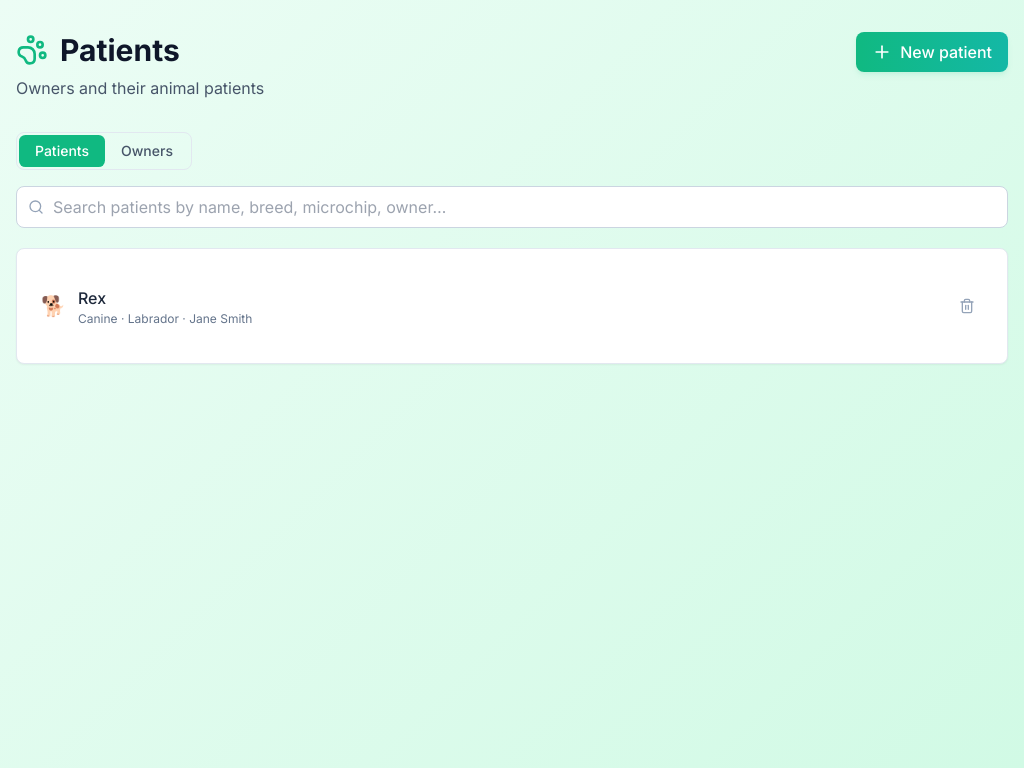
Test: PatientsPage › vaccinations tab shows empty state when no records
Click the text "Rex": x=92, y=298 [78, 288, 106, 308]
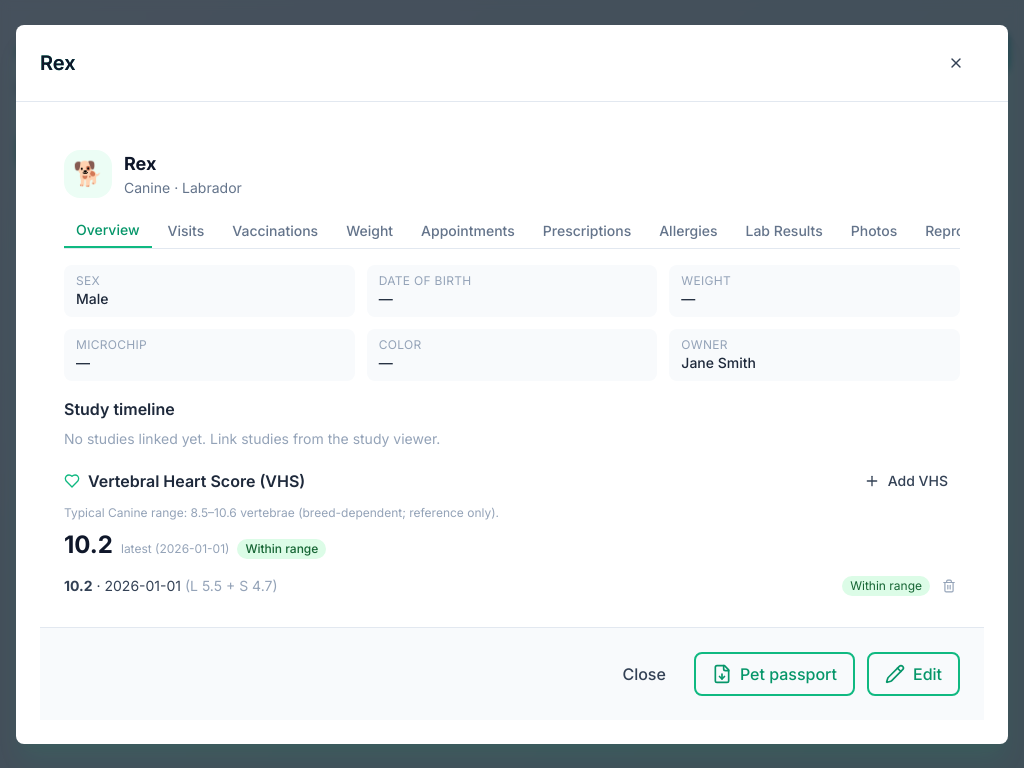
Click the button "Vaccinations": x=275, y=230 [220, 214, 330, 248]
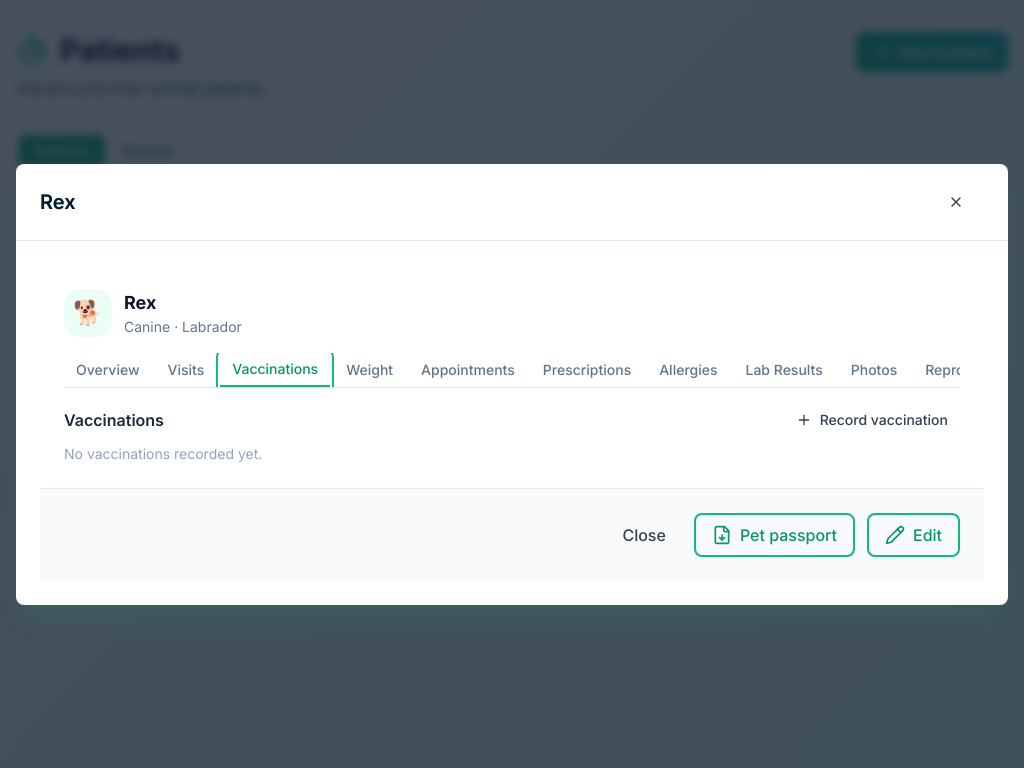
expect the text "No vaccinations recorded yet." is shown: met, box [64, 444, 262, 462]
